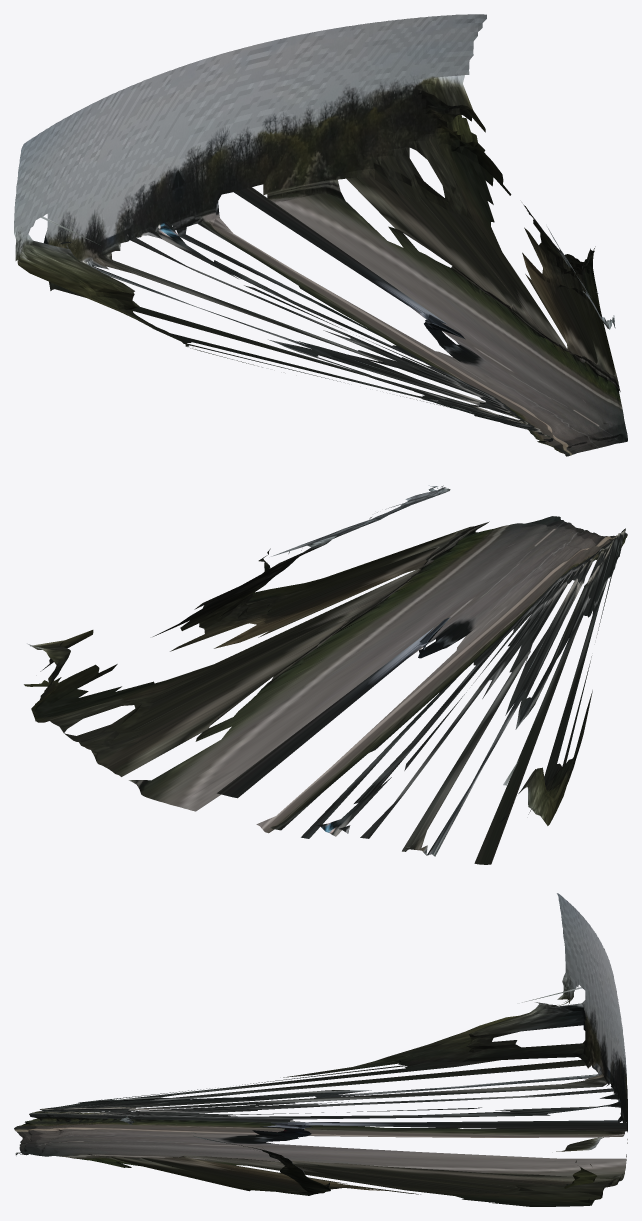
3 views of the same model, one above another, from view 1: azimuth 30°, elevation 25°; view 2: azimuth 150°, elevation 25°; view 3: azimuth 270°, elevation 25° (orthographic). The views are drawn at different scales.
Parts seen in each view (by area): view 1: defaultobject; view 2: defaultobject; view 3: defaultobject.
Boxes of the visible parts, x1,y1,x2,y2 form: defaultobject: (14, 14, 627, 456); defaultobject: (24, 485, 627, 864); defaultobject: (14, 893, 627, 1206).
Bounding box in the file's own units: 36.05 × 12.65 × 44.67.
1 material, 1 textured.
